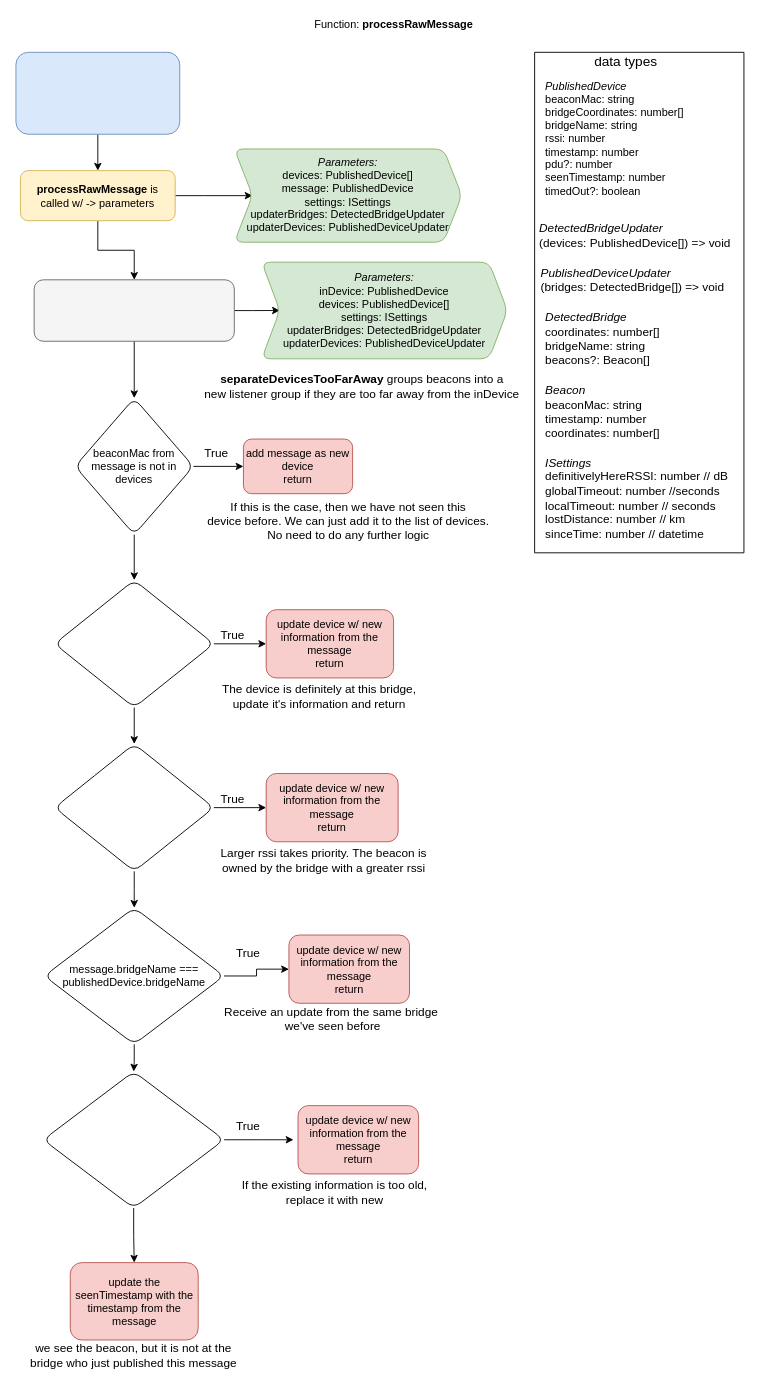
This 760x1400 diagram has some shape labels left out. The shapes that lost their labels are listed below. From the top down, each one's centre as x and y in pixels, then its label:
the point at 97,92: MQTT message arrives on specified topic (see environment variables)
the point at 133,310: separateDevicesTooFarAway is called w/ -> parameters
the point at 134,643: rssi from message >= definitivelyHereRssi (from settings)
the point at 134,807: message.rssi > publishedDevice.rssi
the point at 133,1139: publishedDevice.timestamp + settings.localTimeout < currentTime
